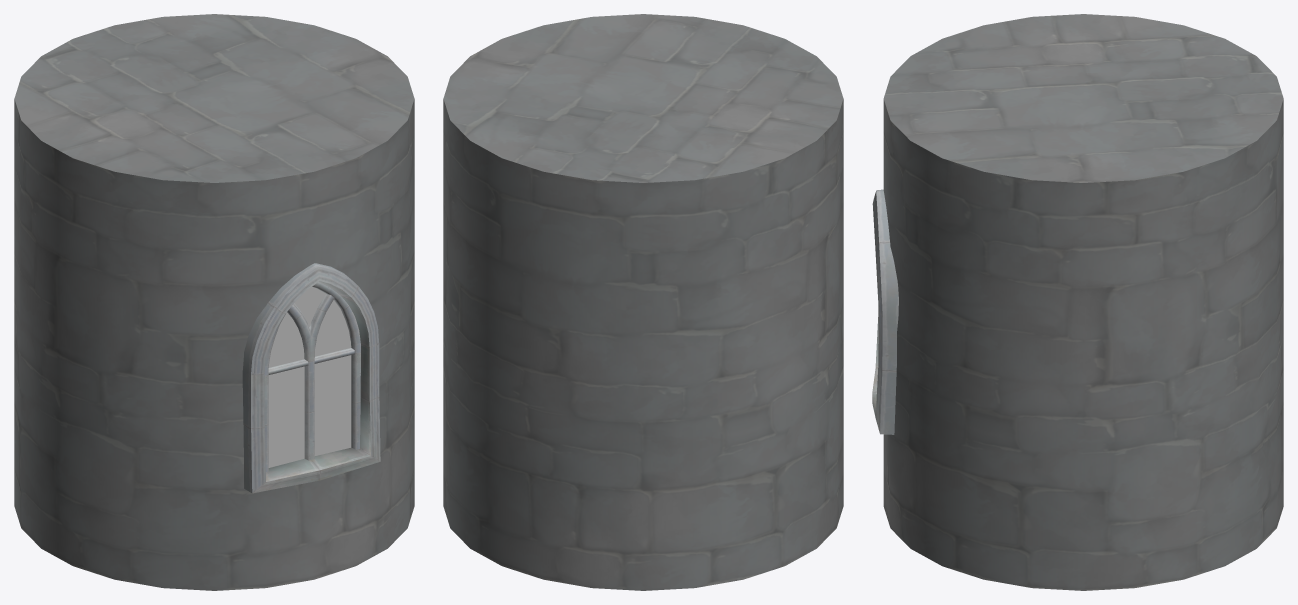
Rendered from SM_TowerC_Window_Window.fbx.
3 views of the same model, side by side, from view 1: azimuth 30°, elevation 25°; view 2: azimuth 150°, elevation 25°; view 3: azimuth 270°, elevation 25° (orthographic).
Parts seen in each view (by area): view 1: SM_TowerC_Window_Window_LOD0; view 2: SM_TowerC_Window_Window_LOD0; view 3: SM_TowerC_Window_Window_LOD0.
Part boxes in pixels (box(x1,y1,x2,y2)): SM_TowerC_Window_Window_LOD0: box(14, 14, 414, 590); SM_TowerC_Window_Window_LOD0: box(443, 14, 843, 590); SM_TowerC_Window_Window_LOD0: box(872, 14, 1283, 590).
Size of what is drawn, in the model's own units: 400 by 450 by 411.
